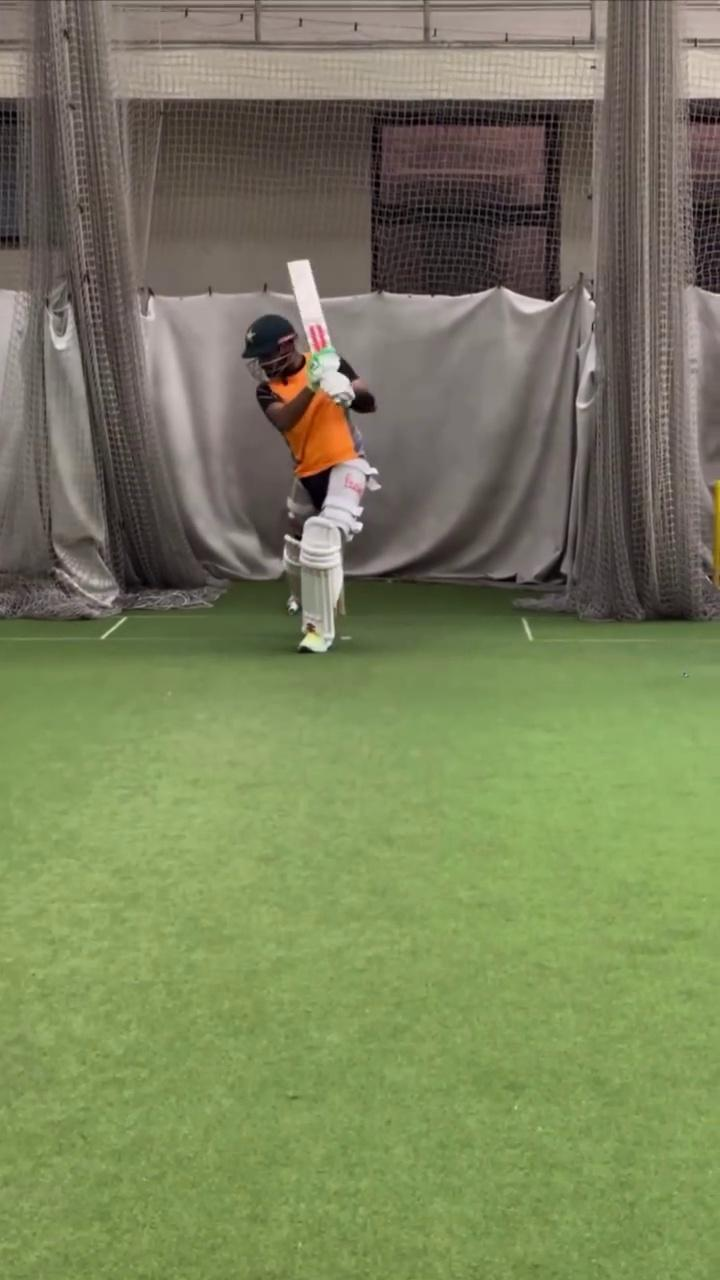bat: (283, 255, 335, 356)
